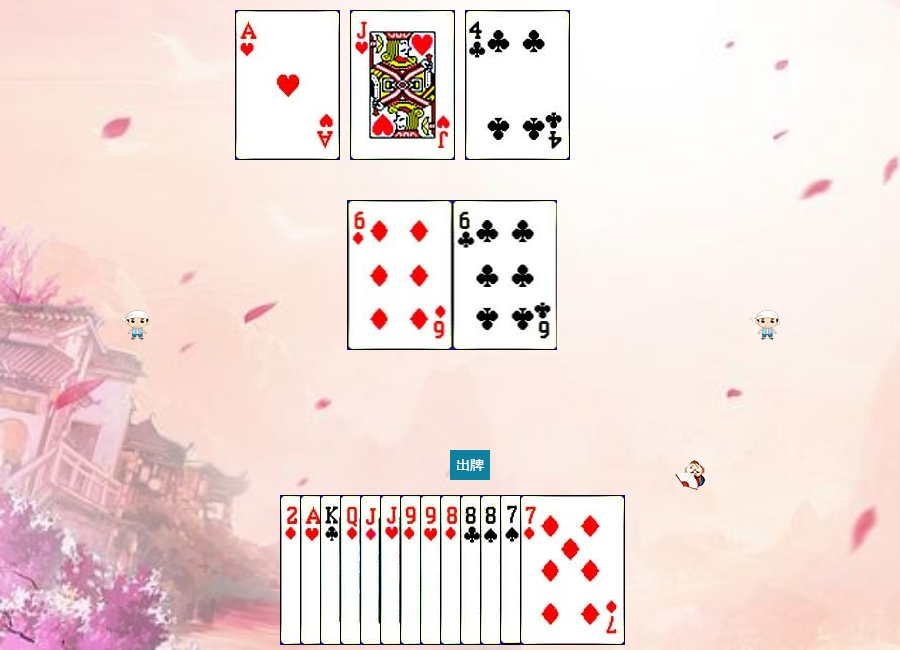11~1: (360, 495, 465, 645)
11~3: (350, 10, 455, 160), (380, 495, 485, 645)
12~1: (340, 495, 445, 645)
13~2: (320, 495, 425, 645)
14~3: (235, 10, 340, 160), (300, 495, 405, 645)
15~1: (280, 495, 385, 645)
4~2: (465, 10, 570, 160)
6~1: (348, 200, 453, 350)
6~2: (453, 200, 558, 350)
7~1: (520, 495, 625, 645)
7~4: (500, 495, 605, 645)
8~1: (440, 495, 545, 645)
8~2: (460, 495, 565, 645)
8~4: (480, 495, 585, 645)
9~1: (400, 495, 505, 645)
9~3: (420, 495, 525, 645)
